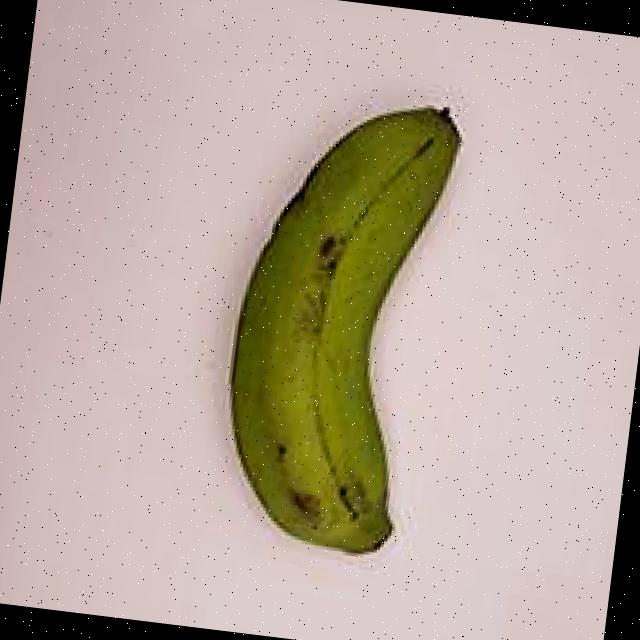Raw: (168, 59, 522, 590)
